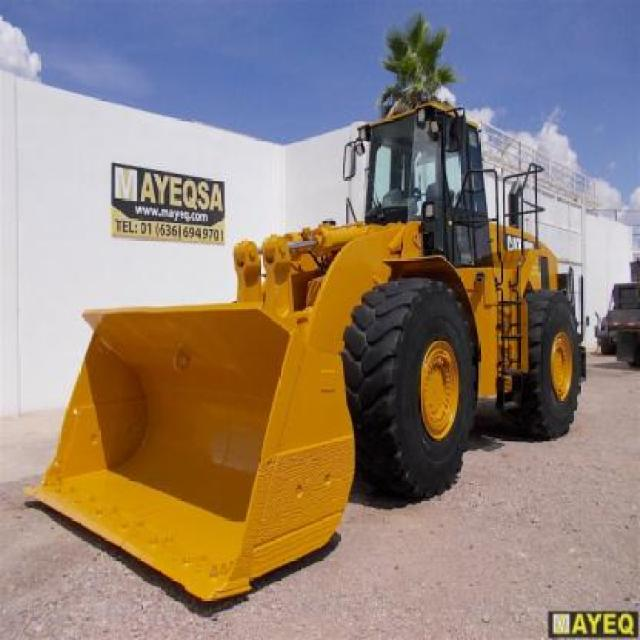buldozerpayloadergrader: (22, 95, 592, 607)
